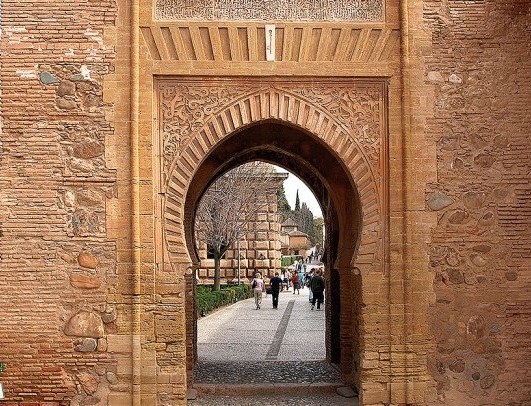arco-herradura: (170, 110, 379, 285)
dintel-adovelado: (138, 21, 398, 68)
